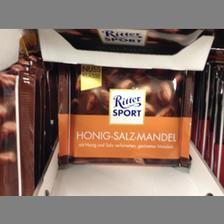Schokolade: (55, 63, 195, 169)
